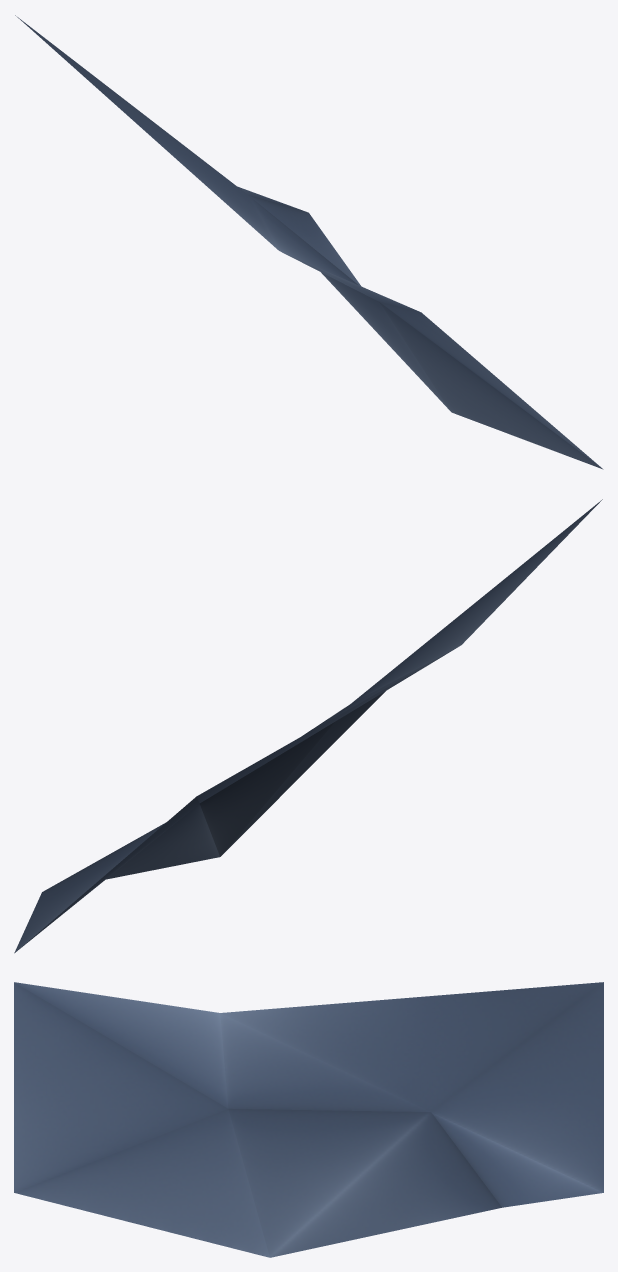
The model's file is SM_Ceiling_Edge_D_A.fbx.
3 views of the same model, one above another, from view 1: azimuth 30°, elevation 25°; view 2: azimuth 150°, elevation 25°; view 3: azimuth 270°, elevation 25° (orthographic). The views are drawn at different scales.
Parts seen in each view (by area): view 1: pCube190; view 2: pCube190; view 3: pCube190.
Part boxes in pixels (x1,y1,x2,y2): pCube190: [15, 15, 603, 469]; pCube190: [14, 499, 602, 953]; pCube190: [14, 982, 603, 1257].
Size of the model in its own units: 0.3184 by 0.3791 by 1.
